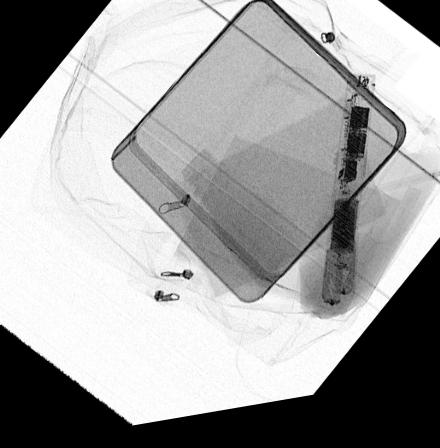Baton: (319, 87, 378, 324)
